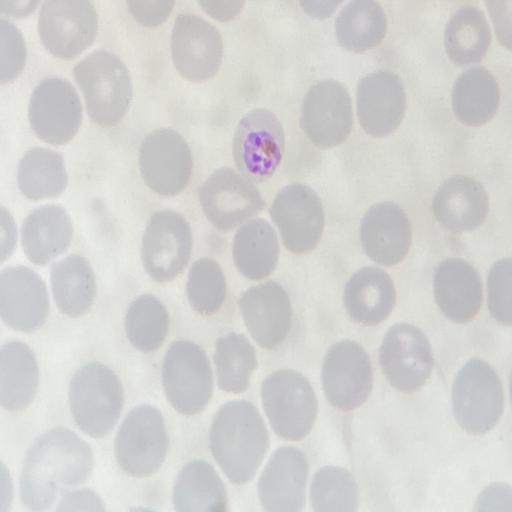Infected: (233, 110, 287, 179)
Uninfected: (20, 427, 92, 508), (212, 399, 270, 486), (451, 357, 505, 435), (199, 168, 266, 230), (322, 337, 376, 413), (262, 369, 318, 442), (78, 50, 133, 123), (69, 366, 127, 434), (116, 404, 170, 477), (139, 128, 195, 196), (380, 319, 430, 392), (164, 339, 212, 415), (38, 0, 99, 59), (271, 184, 323, 253), (140, 210, 191, 279), (432, 174, 492, 232), (258, 447, 311, 512), (241, 285, 293, 351), (301, 81, 352, 147), (173, 15, 224, 81), (19, 206, 75, 266), (356, 73, 406, 139), (30, 76, 80, 142), (2, 266, 49, 334), (433, 257, 482, 322), (442, 5, 491, 68), (0, 339, 39, 417), (343, 267, 395, 325), (360, 204, 410, 264), (233, 219, 281, 281), (451, 70, 501, 128), (48, 255, 93, 319), (18, 145, 70, 199), (172, 461, 226, 512), (214, 333, 259, 394), (124, 295, 169, 350), (338, 0, 383, 53), (188, 257, 229, 314)
